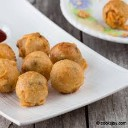bonda: (15, 71, 51, 104), (50, 42, 89, 69), (54, 61, 85, 93), (17, 32, 51, 57), (22, 52, 52, 72)
